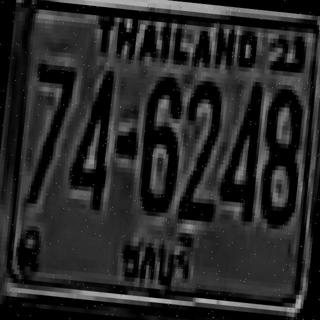N02: (177, 75, 225, 218)
N04: (216, 77, 265, 219), (66, 63, 114, 206)
N06: (134, 70, 185, 213)
N07: (24, 61, 75, 204)
N08: (256, 83, 304, 221)
